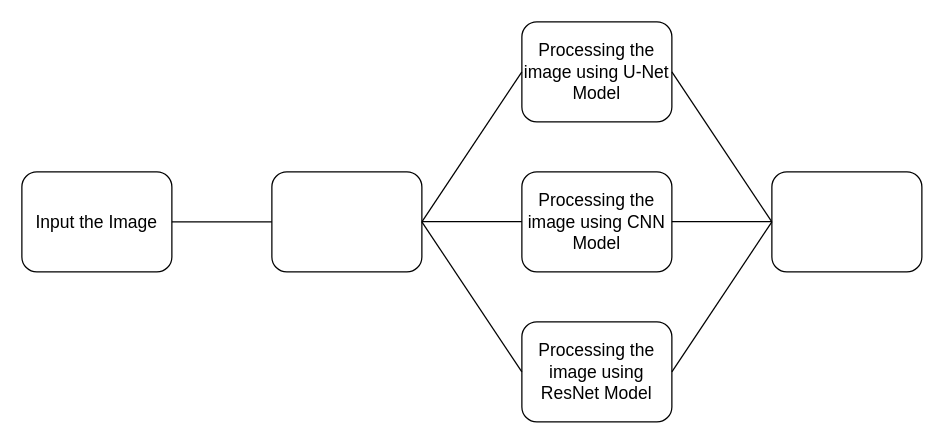
The diagram is 944 pixels wide and 444 high, and some of its shapes have lost their labels. Each missing label, with the box of its shape:
Image Processing: (271, 171, 422, 272)
Output: (771, 171, 922, 272)
